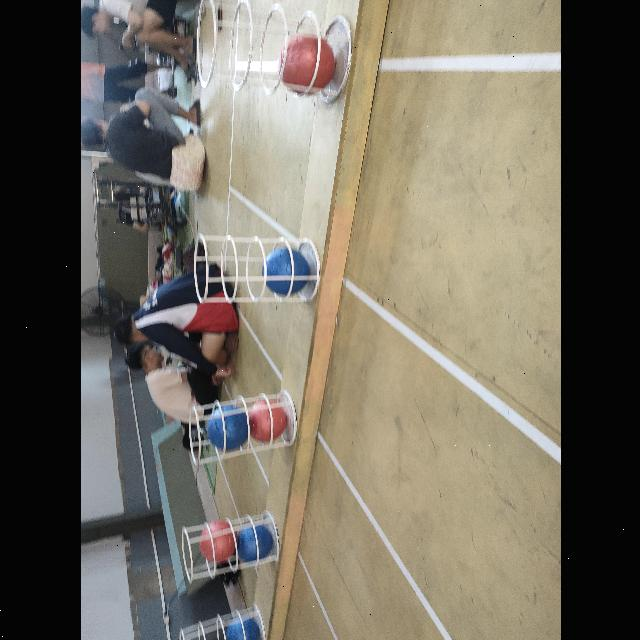B: (262, 248, 308, 294), (208, 406, 245, 450), (236, 524, 274, 564), (224, 616, 258, 640)
R: (279, 34, 335, 96), (247, 400, 286, 440), (198, 522, 236, 562)
